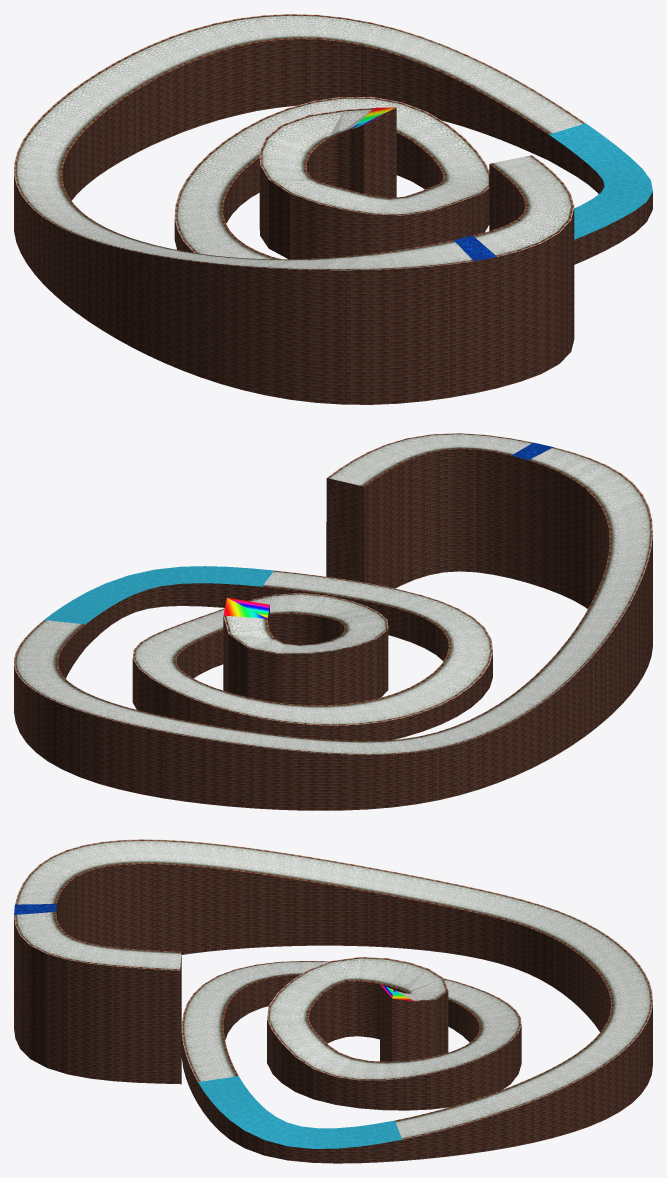
The picture shows the model from 3 angles, top to bottom: view 1: azimuth 30°, elevation 25°; view 2: azimuth 150°, elevation 25°; view 3: azimuth 270°, elevation 25°; orthographic projection. The views are drawn at different scales.
Visible parts, largest first — view 1: Wasser_Turm_Main-Wnde, Wasser_Turm_Main-Steinweg, Wasser_Turm_Main-Wasser, Wasser_Turm_Main-Ziel; view 2: Wasser_Turm_Main-Wnde, Wasser_Turm_Main-Steinweg, Wasser_Turm_Main-Wasser; view 3: Wasser_Turm_Main-Wnde, Wasser_Turm_Main-Steinweg, Wasser_Turm_Main-Wasser.
Part boxes in pixels (left/top/right/bottom): Wasser_Turm_Main-Wnde: left=14, top=39, right=652, bottom=404; Wasser_Turm_Main-Steinweg: left=14, top=14, right=585, bottom=270; Wasser_Turm_Main-Wasser: left=549, top=123, right=652, bottom=239; Wasser_Turm_Main-Ziel: left=453, top=235, right=496, bottom=261; Wasser_Turm_Main-Wnde: left=14, top=449, right=652, bottom=810; Wasser_Turm_Main-Steinweg: left=14, top=433, right=652, bottom=754; Wasser_Turm_Main-Wasser: left=44, top=566, right=273, bottom=624; Wasser_Turm_Main-Wnde: left=14, top=864, right=652, bottom=1163; Wasser_Turm_Main-Steinweg: left=14, top=839, right=652, bottom=1139; Wasser_Turm_Main-Wasser: left=198, top=1076, right=402, bottom=1148.
Size of the model in its own units: 36139 by 8504 by 41439.
7 materials, 7 textured.
